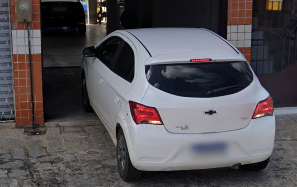car: (79, 25, 276, 181)
